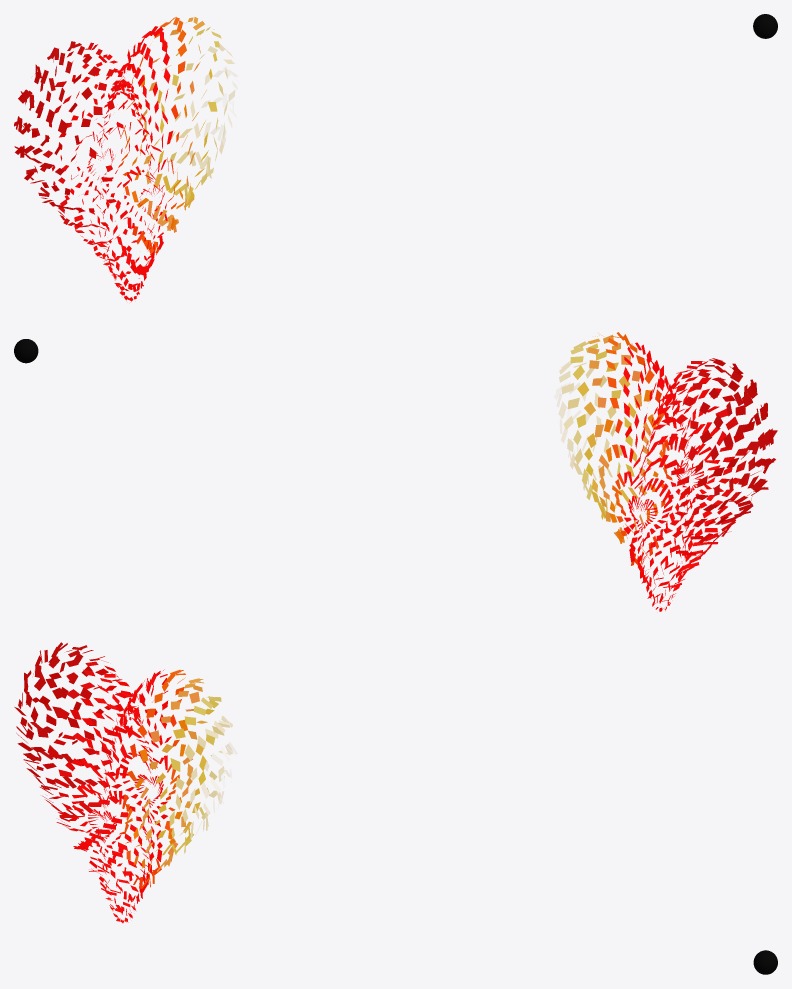
File: heart.glb
3 renders of one model, top to bottom at view 1: azimuth 30°, elevation 25°; view 2: azimuth 150°, elevation 25°; view 3: azimuth 330°, elevation 25°, orthographic.
Bounding box in the file's own units: 3.55 × 1.21 × 0.448.
